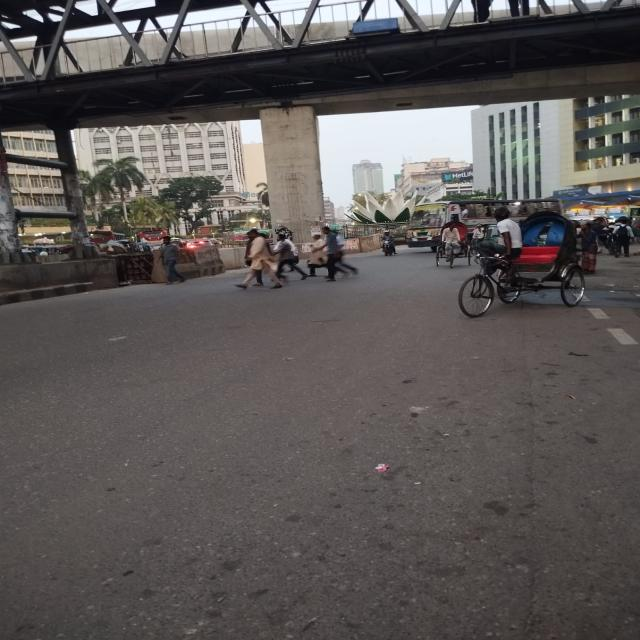person: (236, 229, 282, 289), (323, 226, 357, 282), (274, 233, 308, 280), (308, 234, 327, 276)
